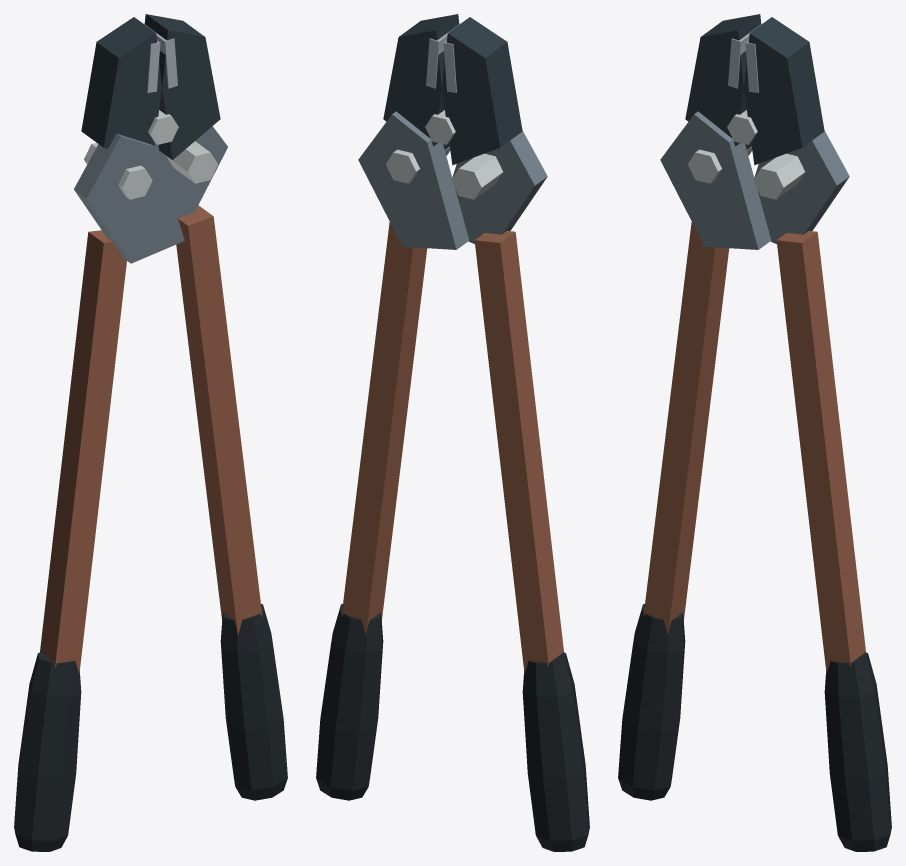
Rendered from b06_bolt_cutters.glb.
3 renders of one model, left to right at view 1: azimuth 30°, elevation 25°; view 2: azimuth 150°, elevation 25°; view 3: azimuth 330°, elevation 25°, orthographic.
Parts seen in each view (by area): view 1: b06_bolt_cutters; view 2: b06_bolt_cutters; view 3: b06_bolt_cutters.
Boxes of the visible parts, <box> form: b06_bolt_cutters: <box>14,14,287,851</box>; b06_bolt_cutters: <box>316,14,589,851</box>; b06_bolt_cutters: <box>618,14,891,851</box>.
Size of the model in its own units: 0.2315 by 0.6499 by 0.057.
